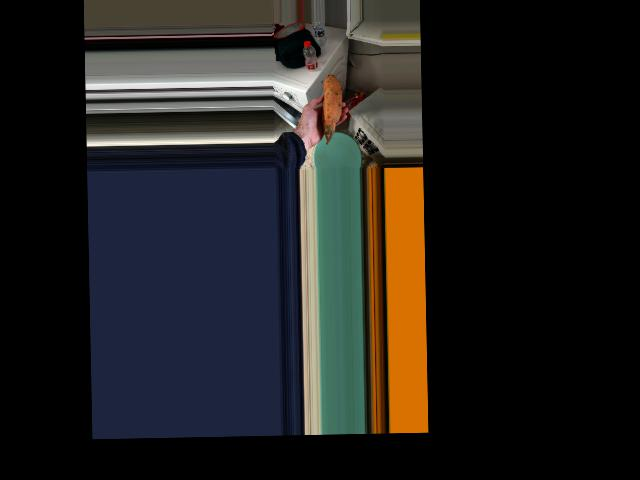sweet_potato: (319, 74, 342, 141)
